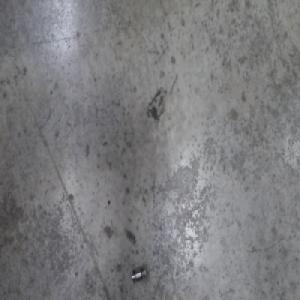Bolt: (131, 264, 147, 285)
